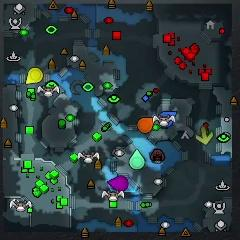p1: (159, 111, 177, 127)
p2: (130, 148, 144, 170)
p3: (108, 176, 128, 191)
p4: (25, 67, 43, 84)
p5: (138, 116, 156, 134)
x2: (196, 127, 213, 145)
